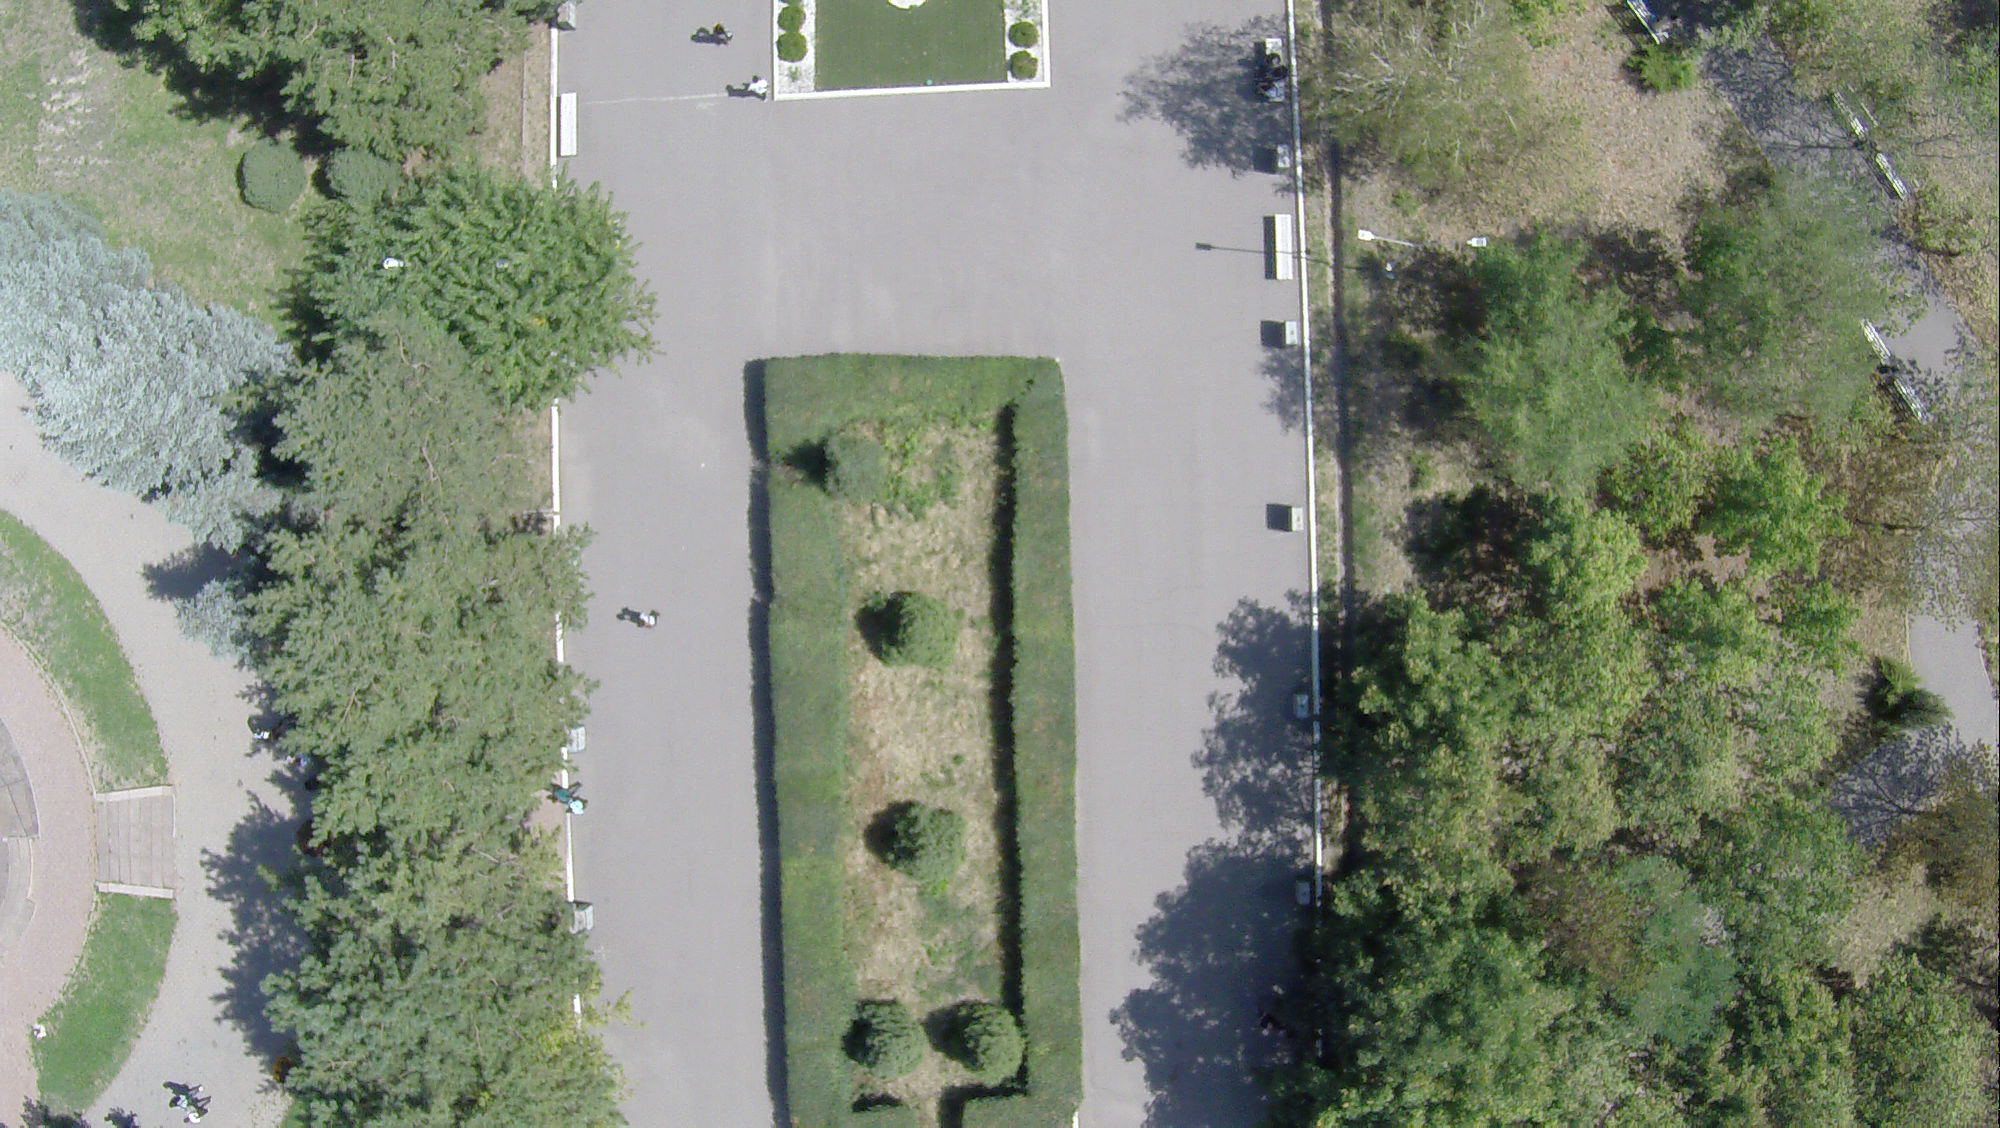person: (745, 74, 770, 101), (709, 20, 734, 44), (168, 1087, 201, 1103), (638, 608, 661, 629), (181, 1108, 209, 1123), (548, 784, 576, 799), (563, 801, 588, 816)
